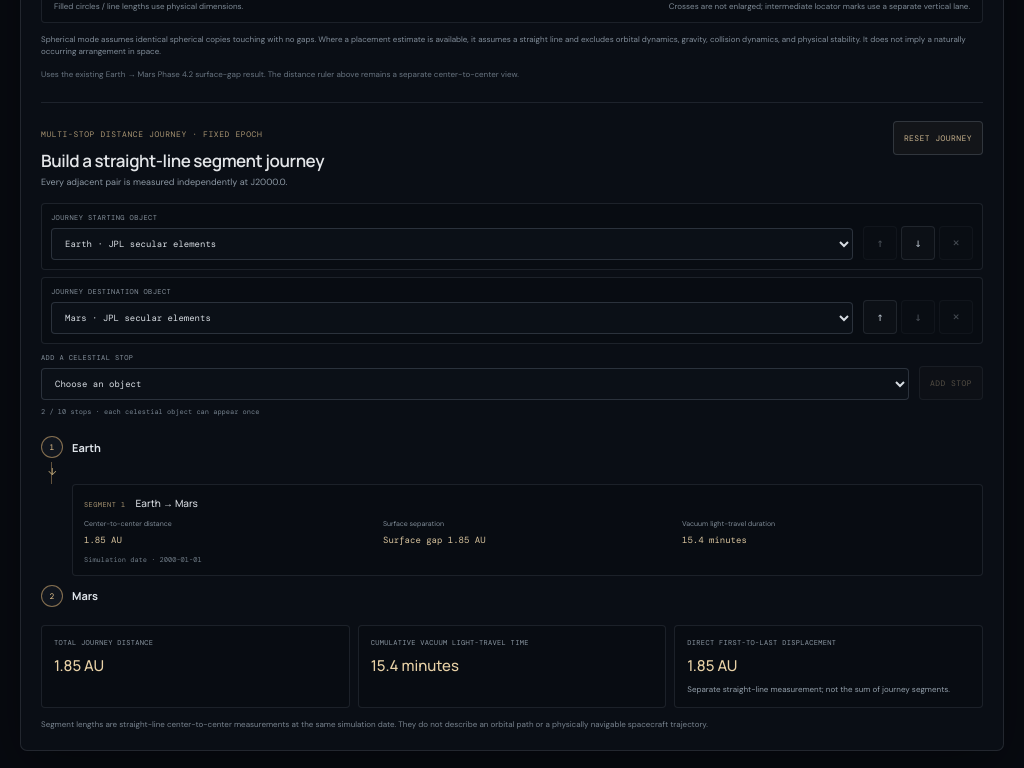
it: Distance Explorer integration › adds, reorders, removes, and resets independent journey stops
Later steps or results of the test are not shown.
(page scrolled)
Select "Jupiter · JPL secular elements" in the dropdown labelled "ADD A CELESTIAL STOP" at (475, 384), box [41,368,909,400]
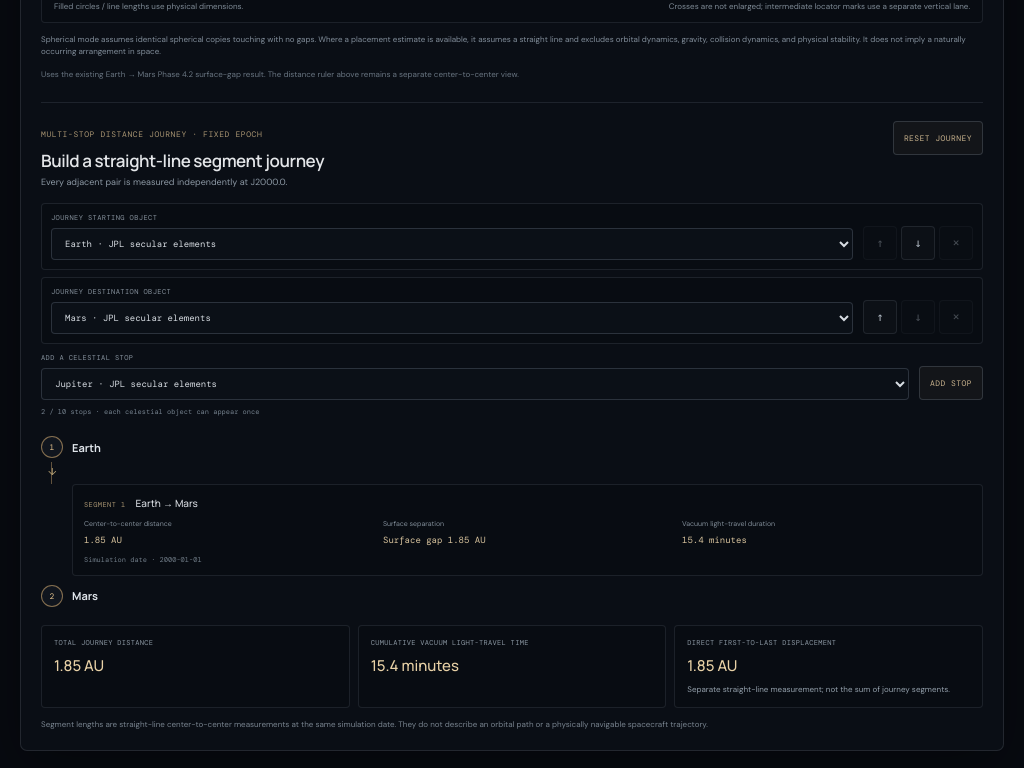
Click the button "ADD STOP" at (951, 383), box [919,366,983,400]
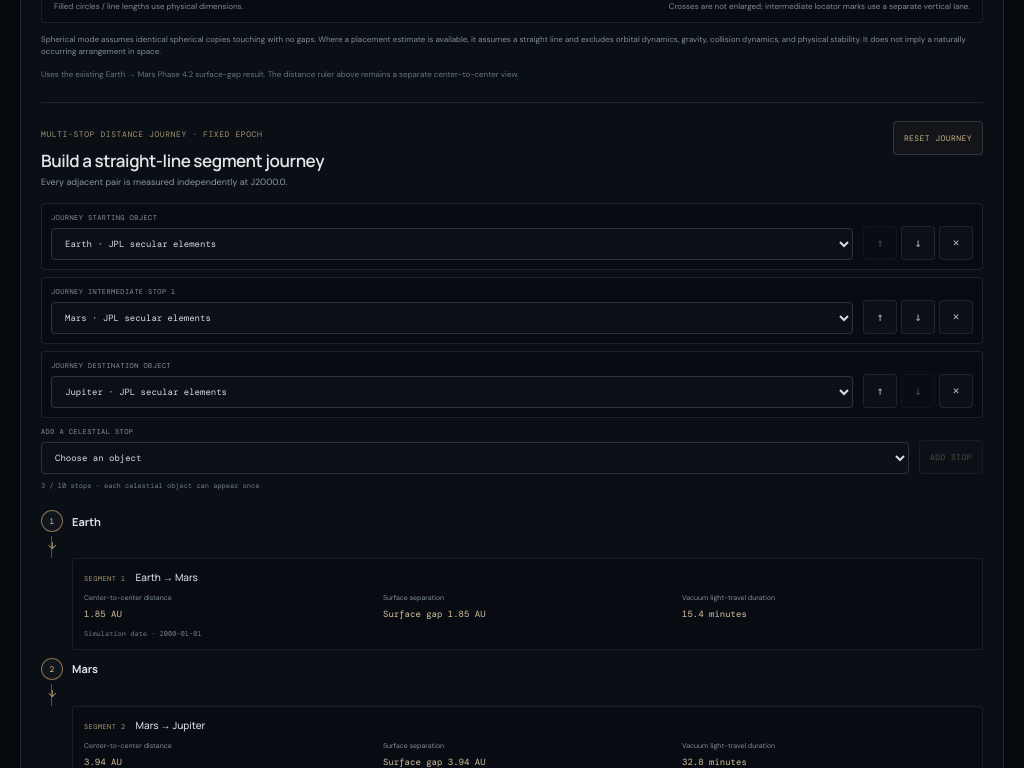
Click the button named "Move Jupiter up" at (880, 391), box [863,374,897,408]
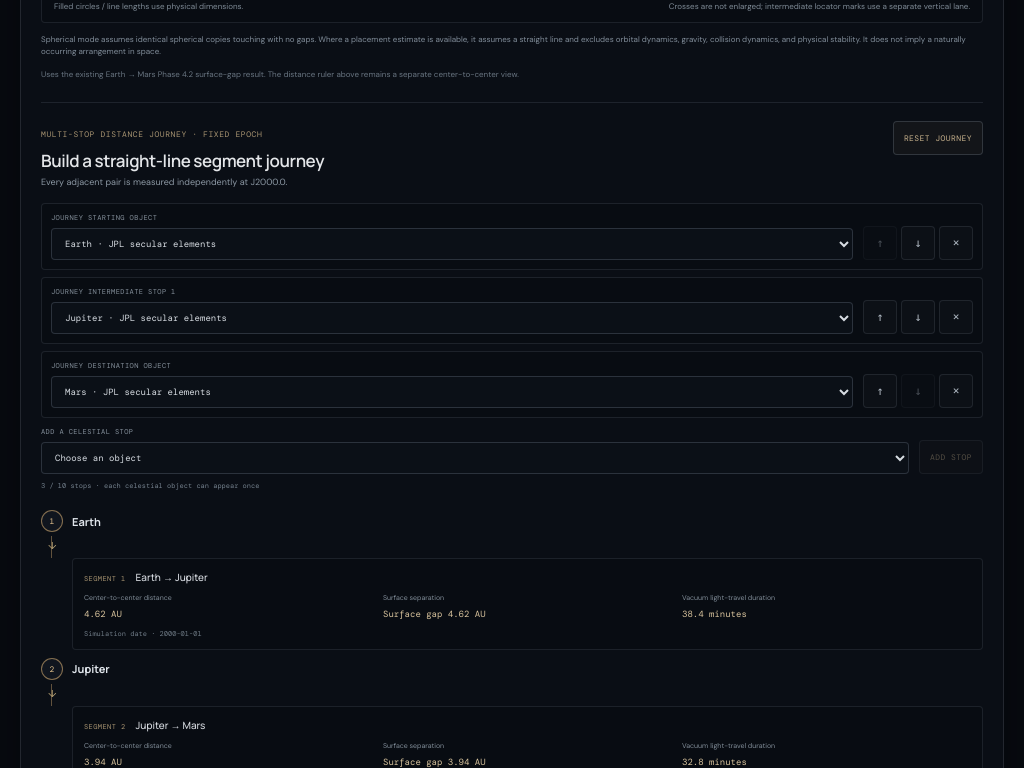
Check: the dropdown labelled "JOURNEY INTERMEDIATE STOP 1" shows "Jupiter · JPL secular elements", box [51,302,853,334]
Click the button named "Remove Jupiter from journey" at (956, 317), box [939,300,973,334]
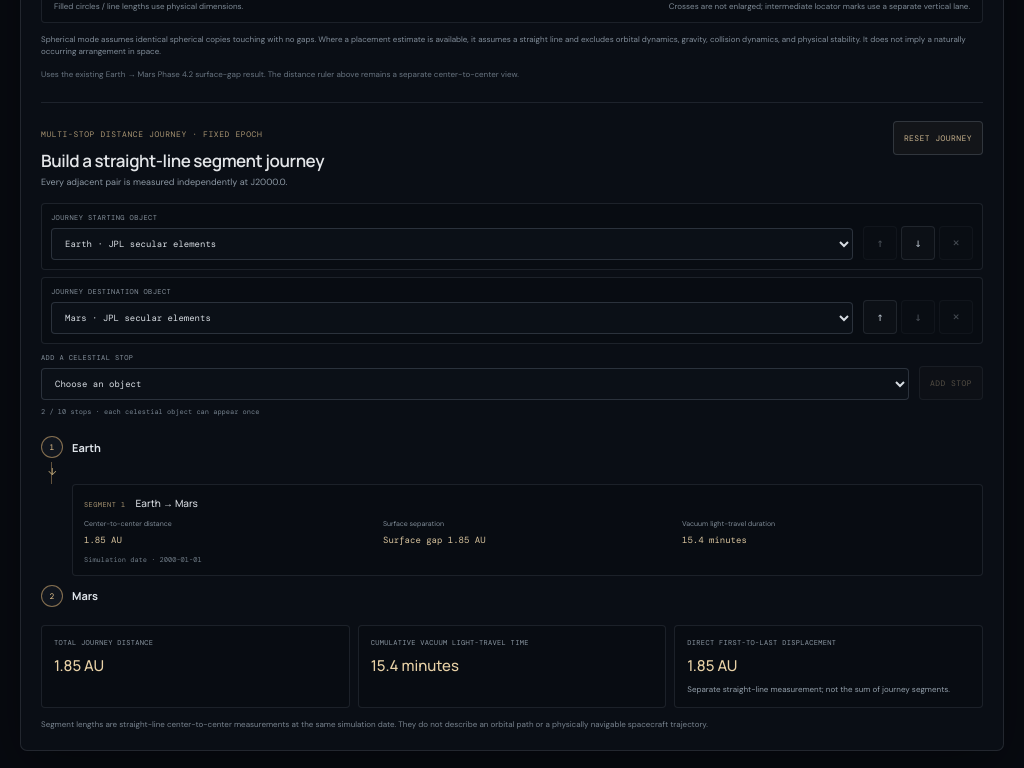
Check: the number of elements with class "journey-segment" is 1, box [72,484,983,576]
